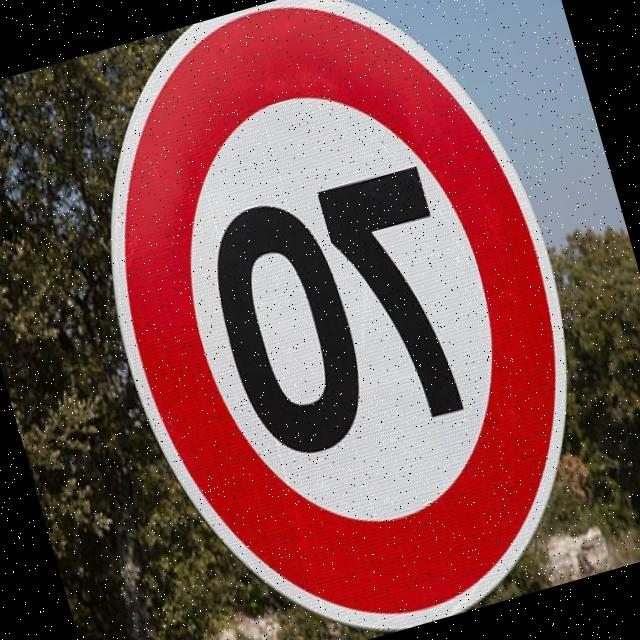speed_limit_70: (41, 0, 640, 640)
